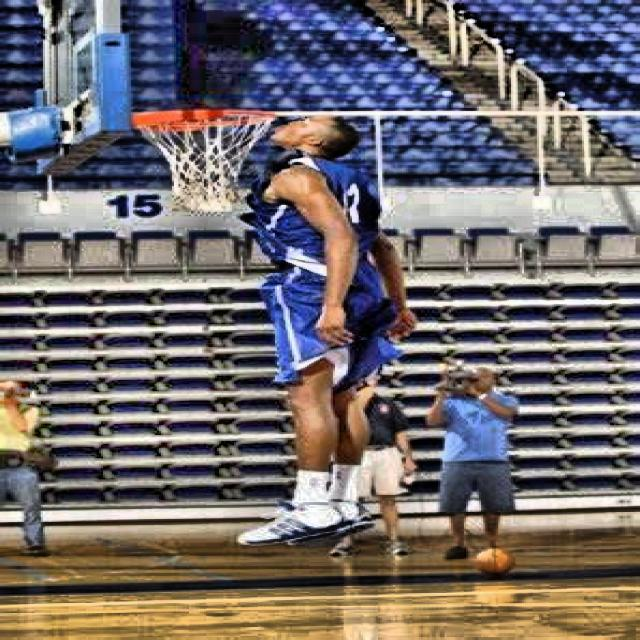rim: (142, 110, 279, 211)
